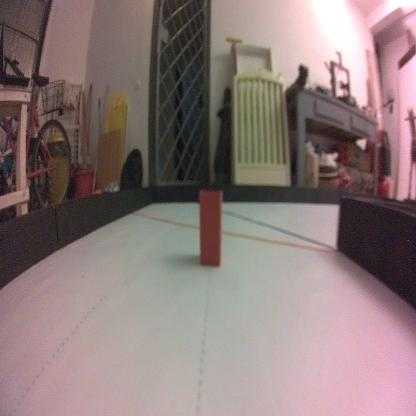red: (198, 186, 224, 270)
